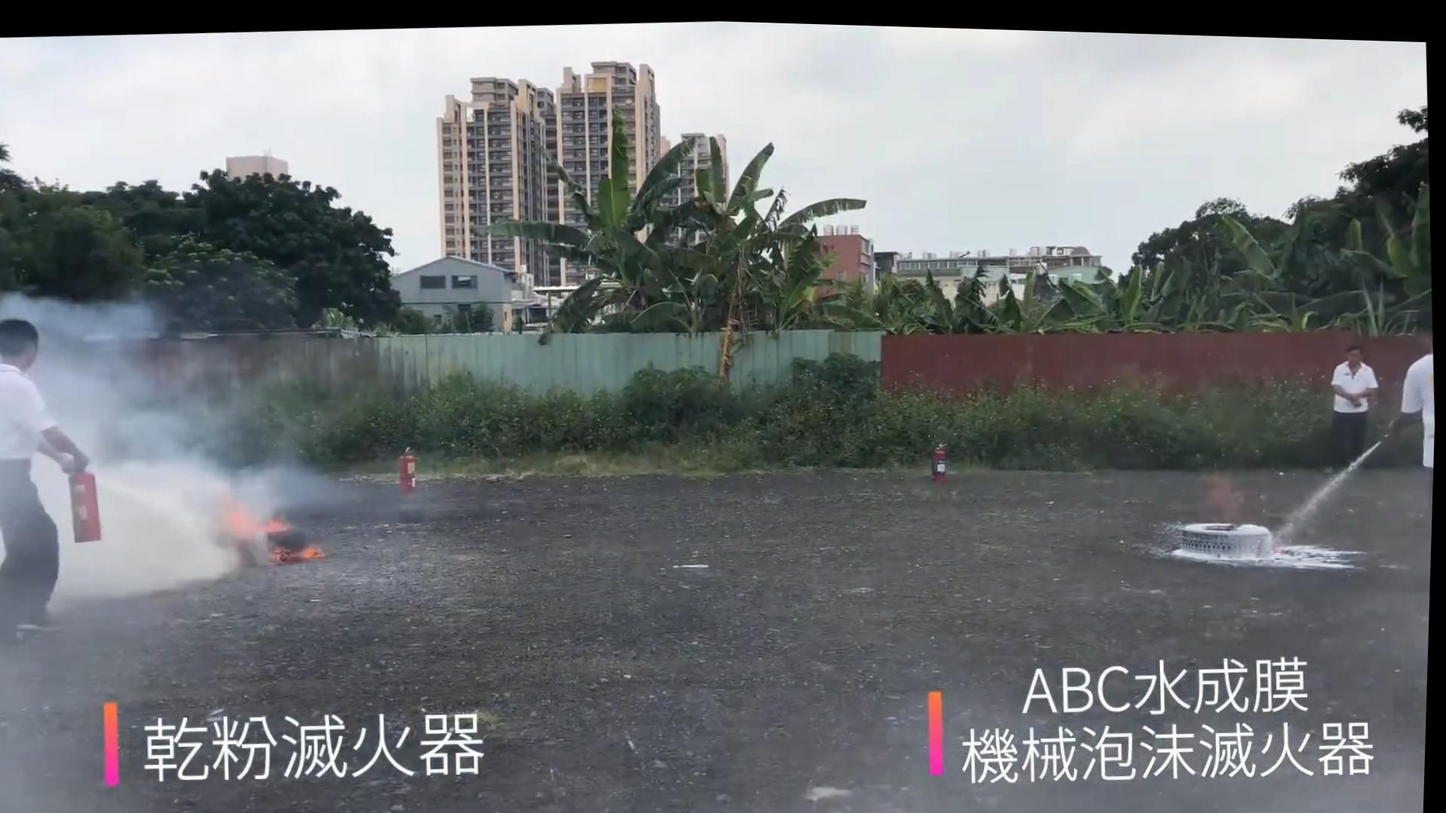FireExtinguisher: (57, 465, 113, 552), (387, 437, 428, 504), (924, 437, 959, 485)
not: (94, 696, 137, 790), (921, 678, 959, 782)
